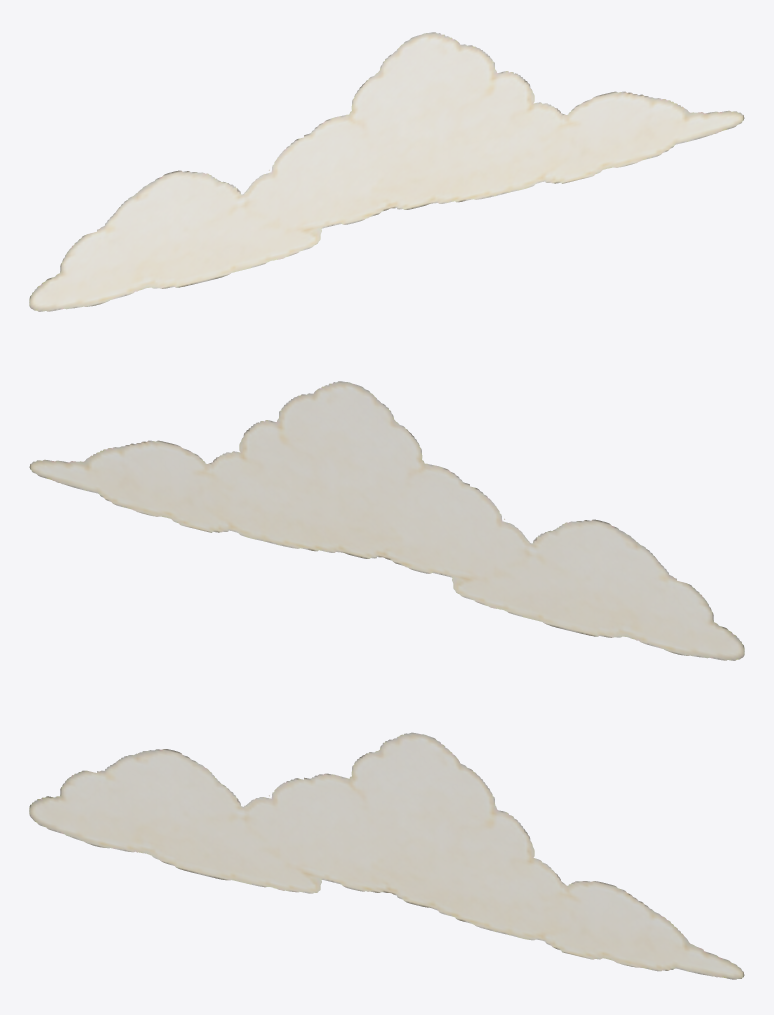
Rendered from garden_cloud.glb.
3 renders of one model, top to bottom at view 1: azimuth 30°, elevation 25°; view 2: azimuth 150°, elevation 25°; view 3: azimuth 330°, elevation 25°, orthographic.
Parts seen in each view (by area): view 1: cloud / painted relief; view 2: cloud / painted relief; view 3: cloud / painted relief.
Boxes of the visible parts, bbox=[...] form: cloud / painted relief: bbox=[29, 32, 744, 311]; cloud / painted relief: bbox=[29, 381, 744, 660]; cloud / painted relief: bbox=[29, 732, 744, 979].
Bounding box in the file's own units: 8 × 2.25 × 0.
Materials: 1 (1 with a texture image).
